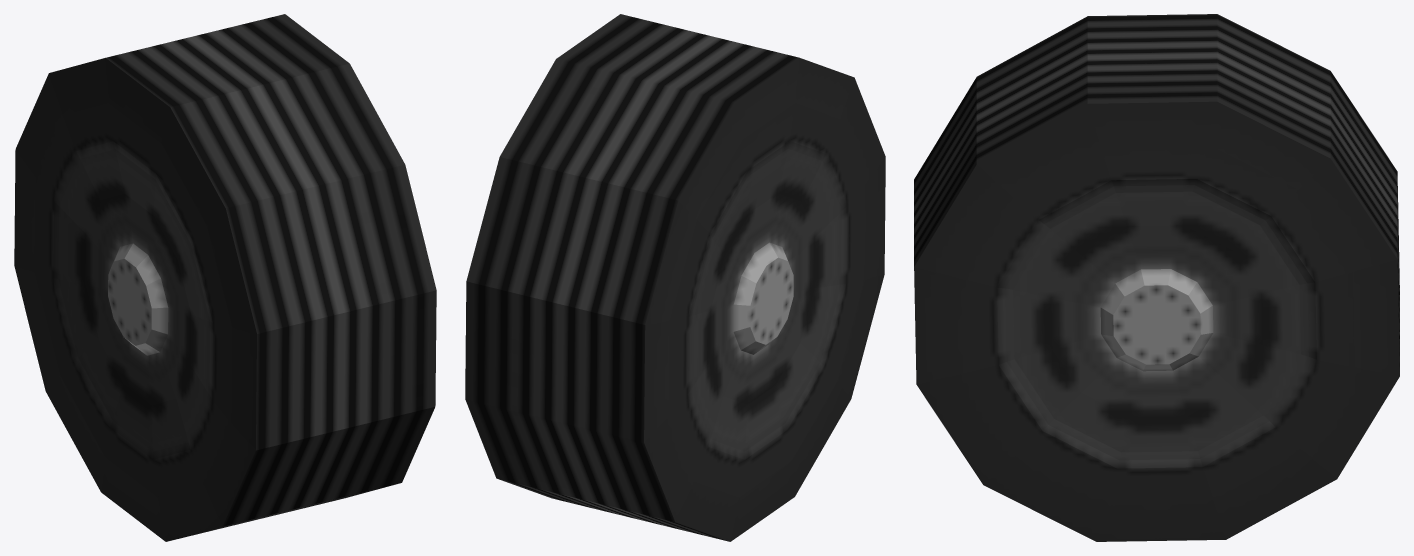
The model's file is Vehicles_GavrilGrandMarshalPoliceWheel.fbx.
The picture shows the model from 3 angles, left to right: view 1: azimuth 30°, elevation 25°; view 2: azimuth 150°, elevation 25°; view 3: azimuth 270°, elevation 25°; orthographic projection.
Visible parts, largest first — view 1: GavrilWheel; view 2: GavrilWheel; view 3: GavrilWheel.
Part boxes in pixels (box(x1,y1,x2,y2)): GavrilWheel: box(14, 14, 436, 541); GavrilWheel: box(465, 14, 885, 541); GavrilWheel: box(914, 14, 1399, 541).
Bounding box in the file's own units: 0.3413 × 0.7456 × 0.7456.
